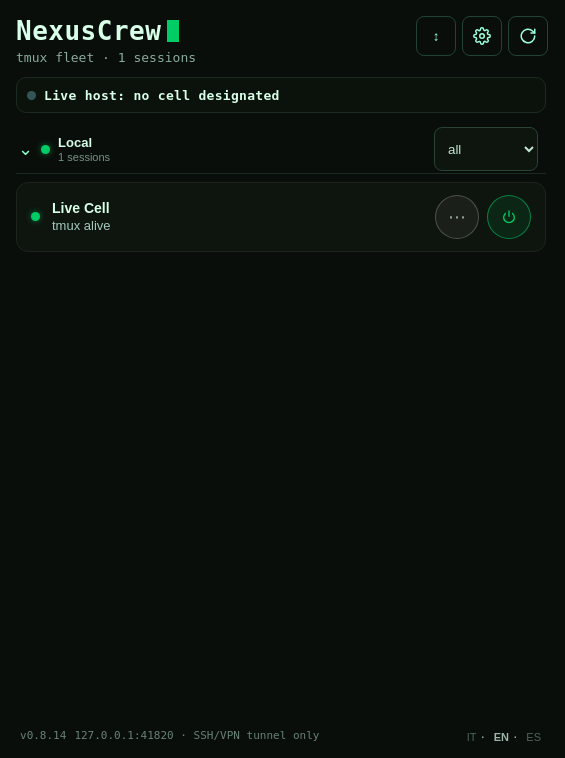
Scenario: R27 — tre esiti: non letto, spento per scelta, dato vivo › CONTROLLO NEGATIVO: fleet SPENTO PER SCELTA (fleetEnabled=false) — lista vuota e indicatore «non disponibile», NON stale e NON celle fantasma
Expected: the text "Live Cell" is shown, x1=52 y1=200 x2=110 y2=216
Click the button named "refresh".
click(528, 36)  # box x1=508 y1=16 x2=548 y2=56
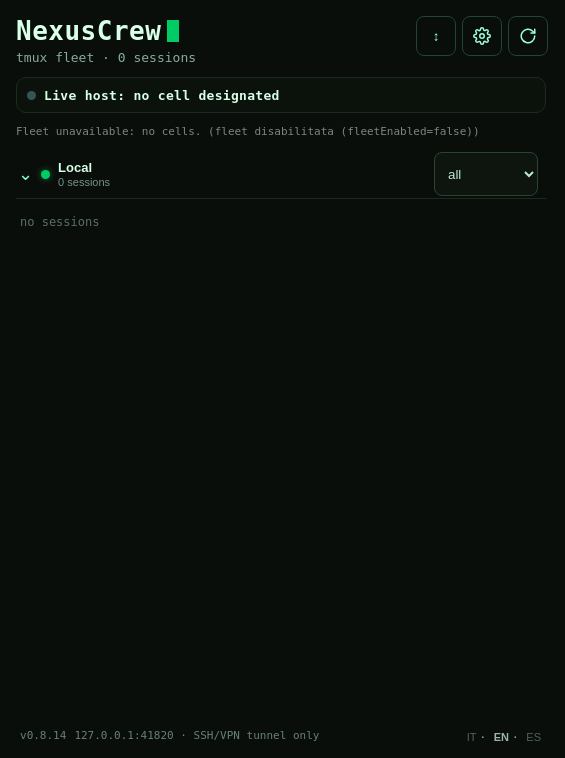
Expected: the button "Live Cell" is gone
Expected: the text "Fleet unavailable: no cells." is shown, x1=16 y1=125 x2=201 y2=138
Expected: the text "fleetEnabled=false" is shown, x1=201 y1=125 x2=480 y2=138
